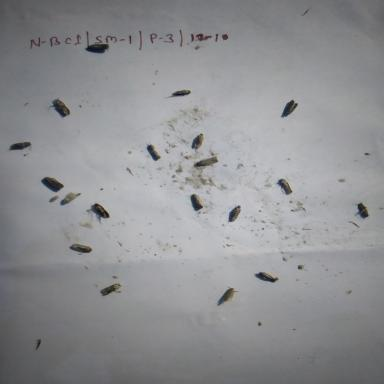pbw: (210, 284, 238, 313), (42, 94, 74, 118), (253, 270, 286, 291), (82, 201, 113, 223), (184, 130, 208, 154), (193, 153, 223, 172), (98, 280, 124, 301), (276, 175, 298, 199), (186, 191, 210, 213), (39, 176, 68, 194), (143, 139, 163, 165), (6, 137, 35, 154), (66, 241, 96, 257), (226, 202, 246, 225), (58, 188, 83, 206), (352, 201, 373, 222), (282, 99, 302, 120), (80, 42, 112, 54), (166, 86, 193, 100), (45, 192, 65, 204)
